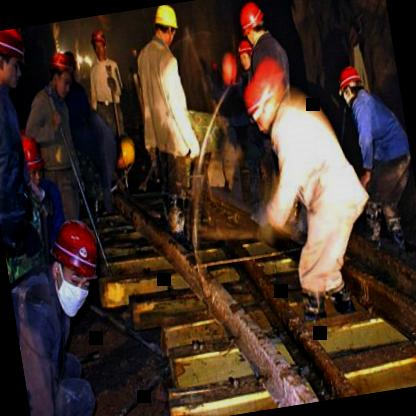helmet: (38, 210, 110, 312), (237, 69, 290, 140), (11, 126, 48, 189), (0, 26, 33, 92), (233, 0, 271, 50), (333, 63, 369, 108), (149, 3, 182, 50), (108, 133, 140, 176), (47, 48, 75, 90), (86, 27, 114, 67), (234, 35, 256, 73)
